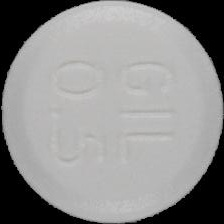68546-142: (0, 0, 224, 224)
